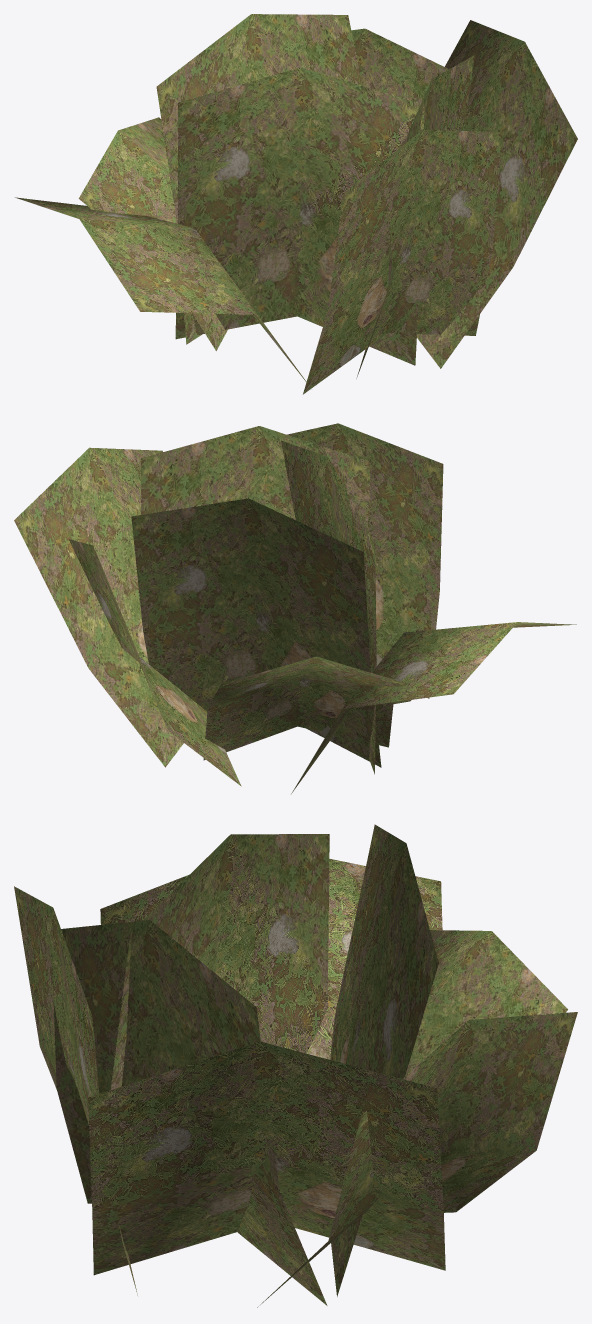
Rendered from SM_Grass.fbx.
3 views of the same model, one above another, from view 1: azimuth 30°, elevation 25°; view 2: azimuth 150°, elevation 25°; view 3: azimuth 270°, elevation 25° (orthographic). The views are drawn at different scales.
Parts seen in each view (by area): view 1: SM_Grass_LOD0; view 2: SM_Grass_LOD0; view 3: SM_Grass_LOD0.
Boxes of the visible parts, left/top/right/bottom form: SM_Grass_LOD0: left=15, top=14, right=577, bottom=394; SM_Grass_LOD0: left=14, top=423, right=576, bottom=793; SM_Grass_LOD0: left=14, top=824, right=577, bottom=1307.
Size of the model in its own units: 127 by 101 by 76.36.
